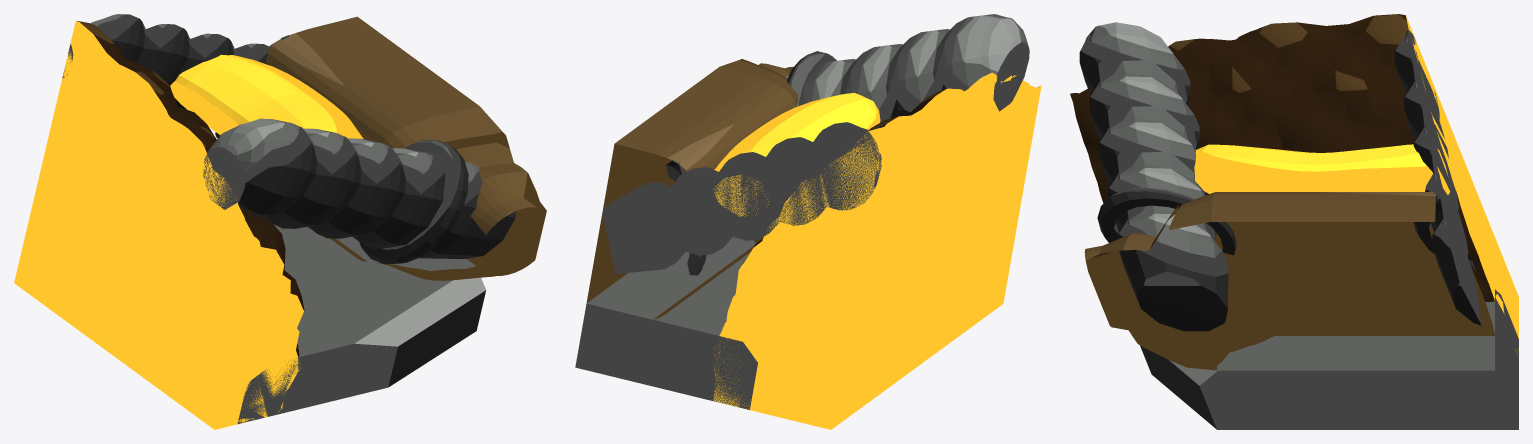
The model's file is pineapple_239.glb.
3 views of the same model, side by side, from view 1: azimuth 30°, elevation 25°; view 2: azimuth 150°, elevation 25°; view 3: azimuth 270°, elevation 25° (orthographic). The views are drawn at different scales.
Visible parts, largest first — view 1: pineapple_239; view 2: pineapple_239; view 3: pineapple_239.
Part boxes in pixels (x1,y1,x2,y2): pineapple_239: (14,14,546,429); pineapple_239: (575,14,1041,429); pineapple_239: (1070,14,1518,429).
Size of the model in its own units: 24 by 23.95 by 34.22.
